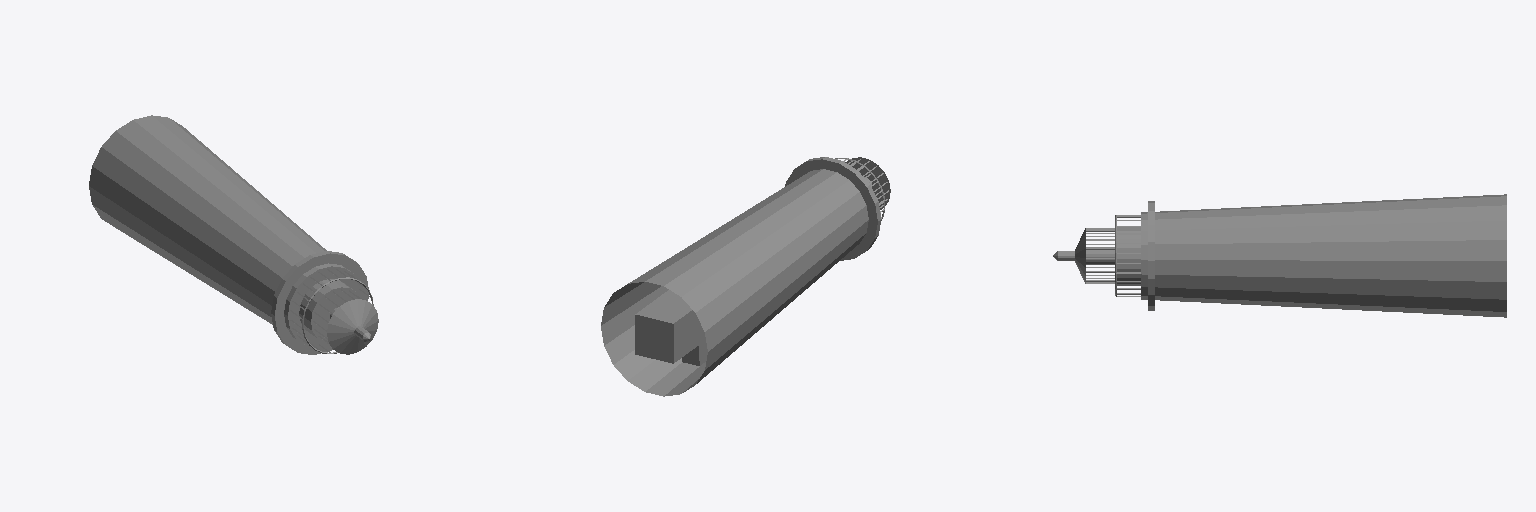
File: BeconTriangle.obj
3 views of the same model, side by side, from view 1: azimuth 30°, elevation 25°; view 2: azimuth 150°, elevation 25°; view 3: azimuth 270°, elevation 25° (orthographic).
Visible parts, largest first — view 1: Shape01, Cylinder05, Cone01, Cylinder04, Cylinder02; view 2: Shape01, Box03, Cylinder05, Cone01; view 3: Shape01, Cylinder04, Cylinder05, Cylinder02, Cylinder01.
Part boxes in pixels (left/top/right/bottom): Shape01: left=89, top=115, right=362, bottom=346; Cylinder05: left=271, top=251, right=368, bottom=354; Cone01: left=327, top=299, right=378, bottom=354; Cylinder04: left=299, top=279, right=360, bottom=342; Cylinder02: left=290, top=269, right=373, bottom=353; Shape01: left=601, top=169, right=868, bottom=396; Box03: left=635, top=290, right=705, bottom=363; Cylinder05: left=785, top=157, right=881, bottom=260; Cone01: left=845, top=157, right=890, bottom=209; Shape01: left=1141, top=194, right=1506, bottom=317; Cylinder04: left=1117, top=227, right=1140, bottom=285; Cylinder05: left=1148, top=201, right=1154, bottom=310; Cylinder02: left=1115, top=215, right=1140, bottom=296; Cylinder01: left=1086, top=228, right=1114, bottom=283.
Size of the model in its own units: 70 by 68.94 by 257.